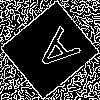A: (25, 25, 82, 81)
